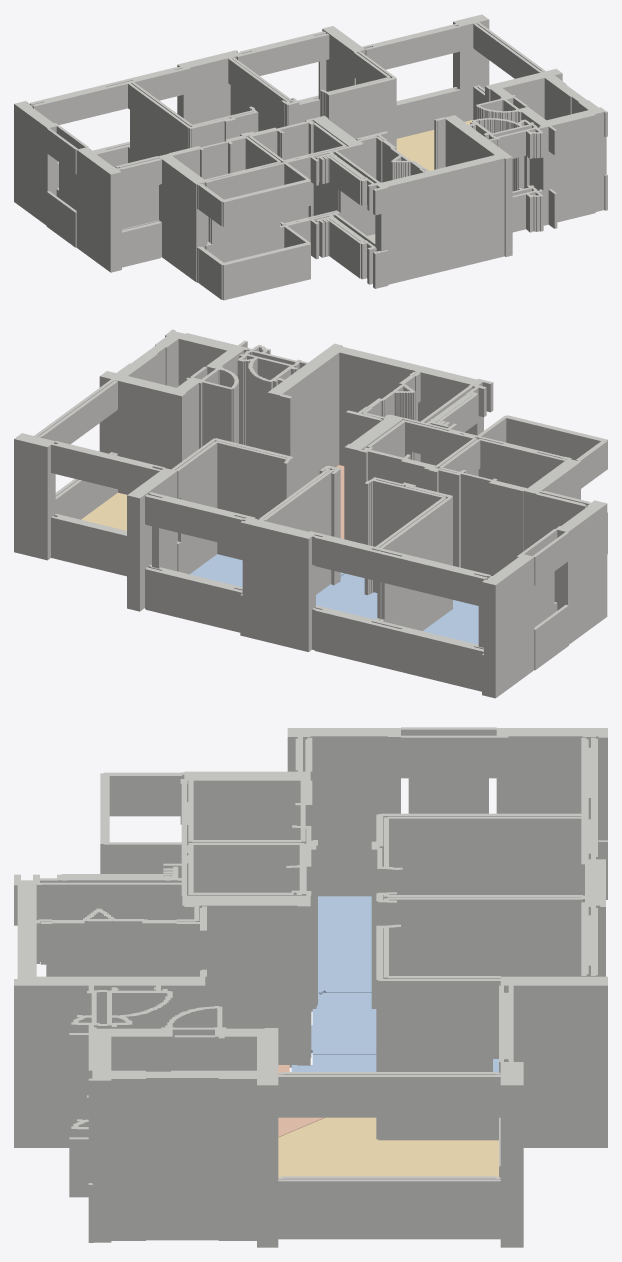
3 views of the same model, one above another, from view 1: azimuth 30°, elevation 25°; view 2: azimuth 150°, elevation 25°; view 3: azimuth 270°, elevation 25° (orthographic). The views are drawn at different scales.
Parts seen in each view (by area): view 1: walls, room:living:2; view 2: walls, room:bedroom:1, room:bedroom:0, room:bedroom:3, room:living:2; view 3: walls, room:living:2, room:bedroom:0, room:bedroom:1, room:bedroom:3.
Boxes of the visible parts, x1=… form: walls: x1=14, y1=14, x2=607, y2=300; room:living:2: x1=396, y1=120, x2=473, y2=170; walls: x1=14, y1=329, x2=607, y2=698; room:bedroom:1: x1=316, y1=573, x2=377, y2=619; room:bedroom:0: x1=423, y1=600, x2=478, y2=644; room:bedroom:3: x1=190, y1=554, x2=344, y2=587; room:living:2: x1=81, y1=492, x2=126, y2=530; walls: x1=14, y1=727, x2=607, y2=1247; room:living:2: x1=278, y1=1117, x2=498, y2=1178; room:bedroom:0: x1=318, y1=896, x2=371, y2=994; room:bedroom:1: x1=311, y1=992, x2=376, y2=1054; room:bedroom:3: x1=291, y1=1055, x2=498, y2=1072.
Bounding box in the file's own units: 13.25 × 2.8 × 9.29.
